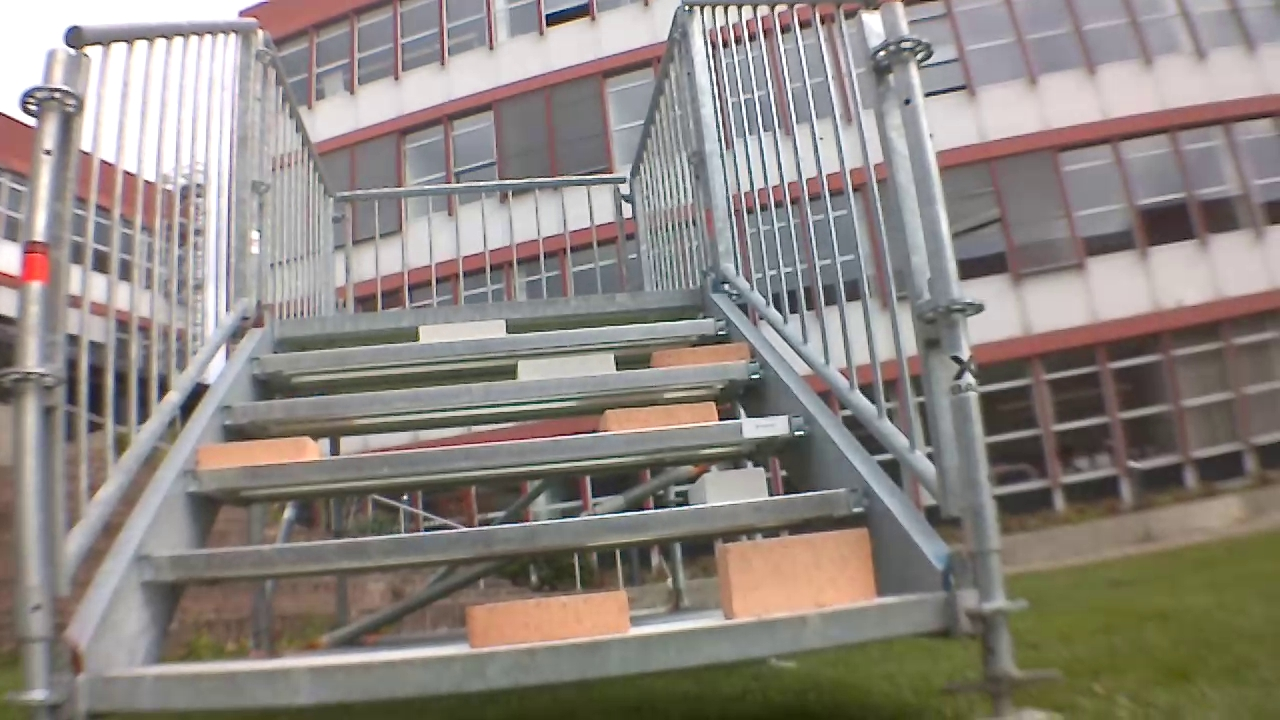brick: (722, 524, 876, 625), (465, 590, 633, 652), (195, 435, 327, 474), (644, 336, 757, 371), (519, 348, 615, 389), (598, 406, 720, 438), (686, 469, 768, 509), (409, 320, 502, 344)
edge: (97, 591, 966, 718), (122, 489, 876, 591), (190, 406, 820, 497), (219, 380, 770, 433), (271, 278, 708, 338), (260, 333, 733, 371)
stairs: (12, 1, 983, 720)
steps: (11, 288, 1003, 704)
